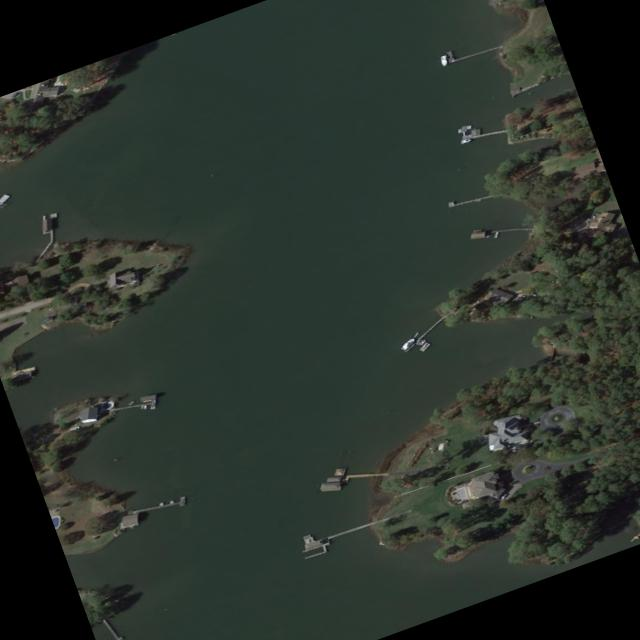ship: (398, 336, 417, 350), (417, 341, 432, 352), (437, 53, 448, 66), (127, 399, 136, 405)
small-vehicle: (67, 424, 81, 431)
